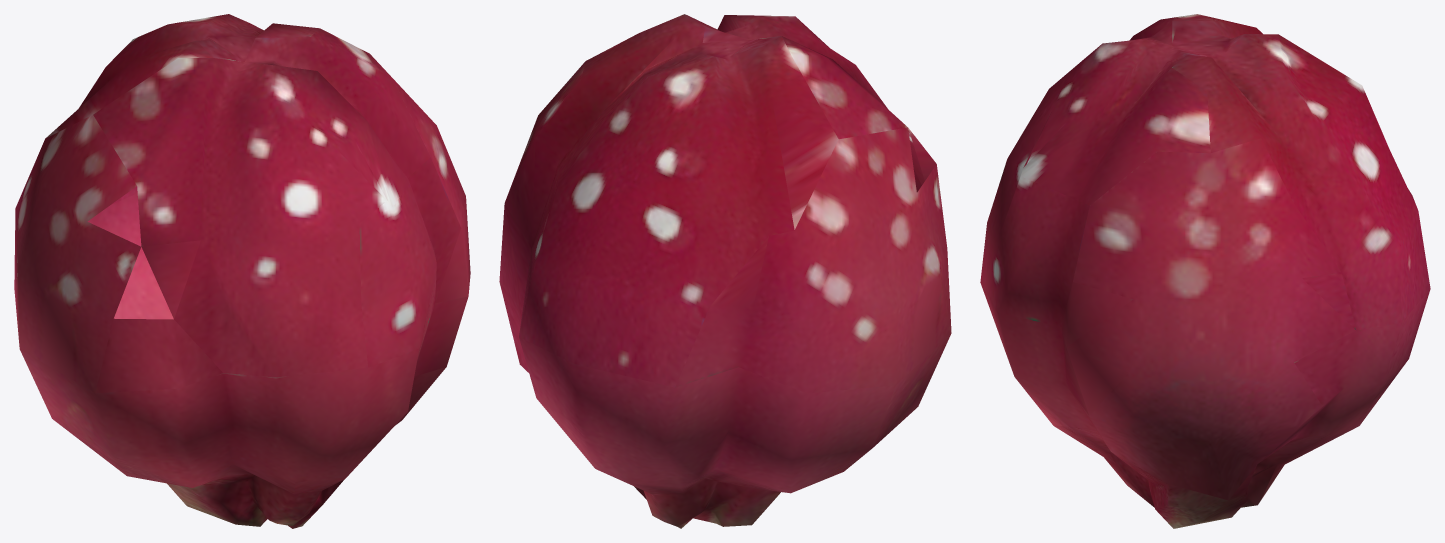
Rendered from fungus-red-fly-agaric.gltf.
The picture shows the model from 3 angles, left to right: view 1: azimuth 30°, elevation 25°; view 2: azimuth 150°, elevation 25°; view 3: azimuth 270°, elevation 25°; orthographic projection. The views are drawn at different scales.
Visible parts, largest first — view 1: fungus-red-fly-agaric; view 2: fungus-red-fly-agaric; view 3: fungus-red-fly-agaric.
Boxes of the visible parts, x1,y1,x2,y2 form: fungus-red-fly-agaric: (14, 14, 470, 528); fungus-red-fly-agaric: (499, 14, 951, 528); fungus-red-fly-agaric: (980, 14, 1430, 528).
Bounding box in the file's own units: 0.454 × 0.5377 × 0.4689.
Materials: 1 (1 with a texture image).
